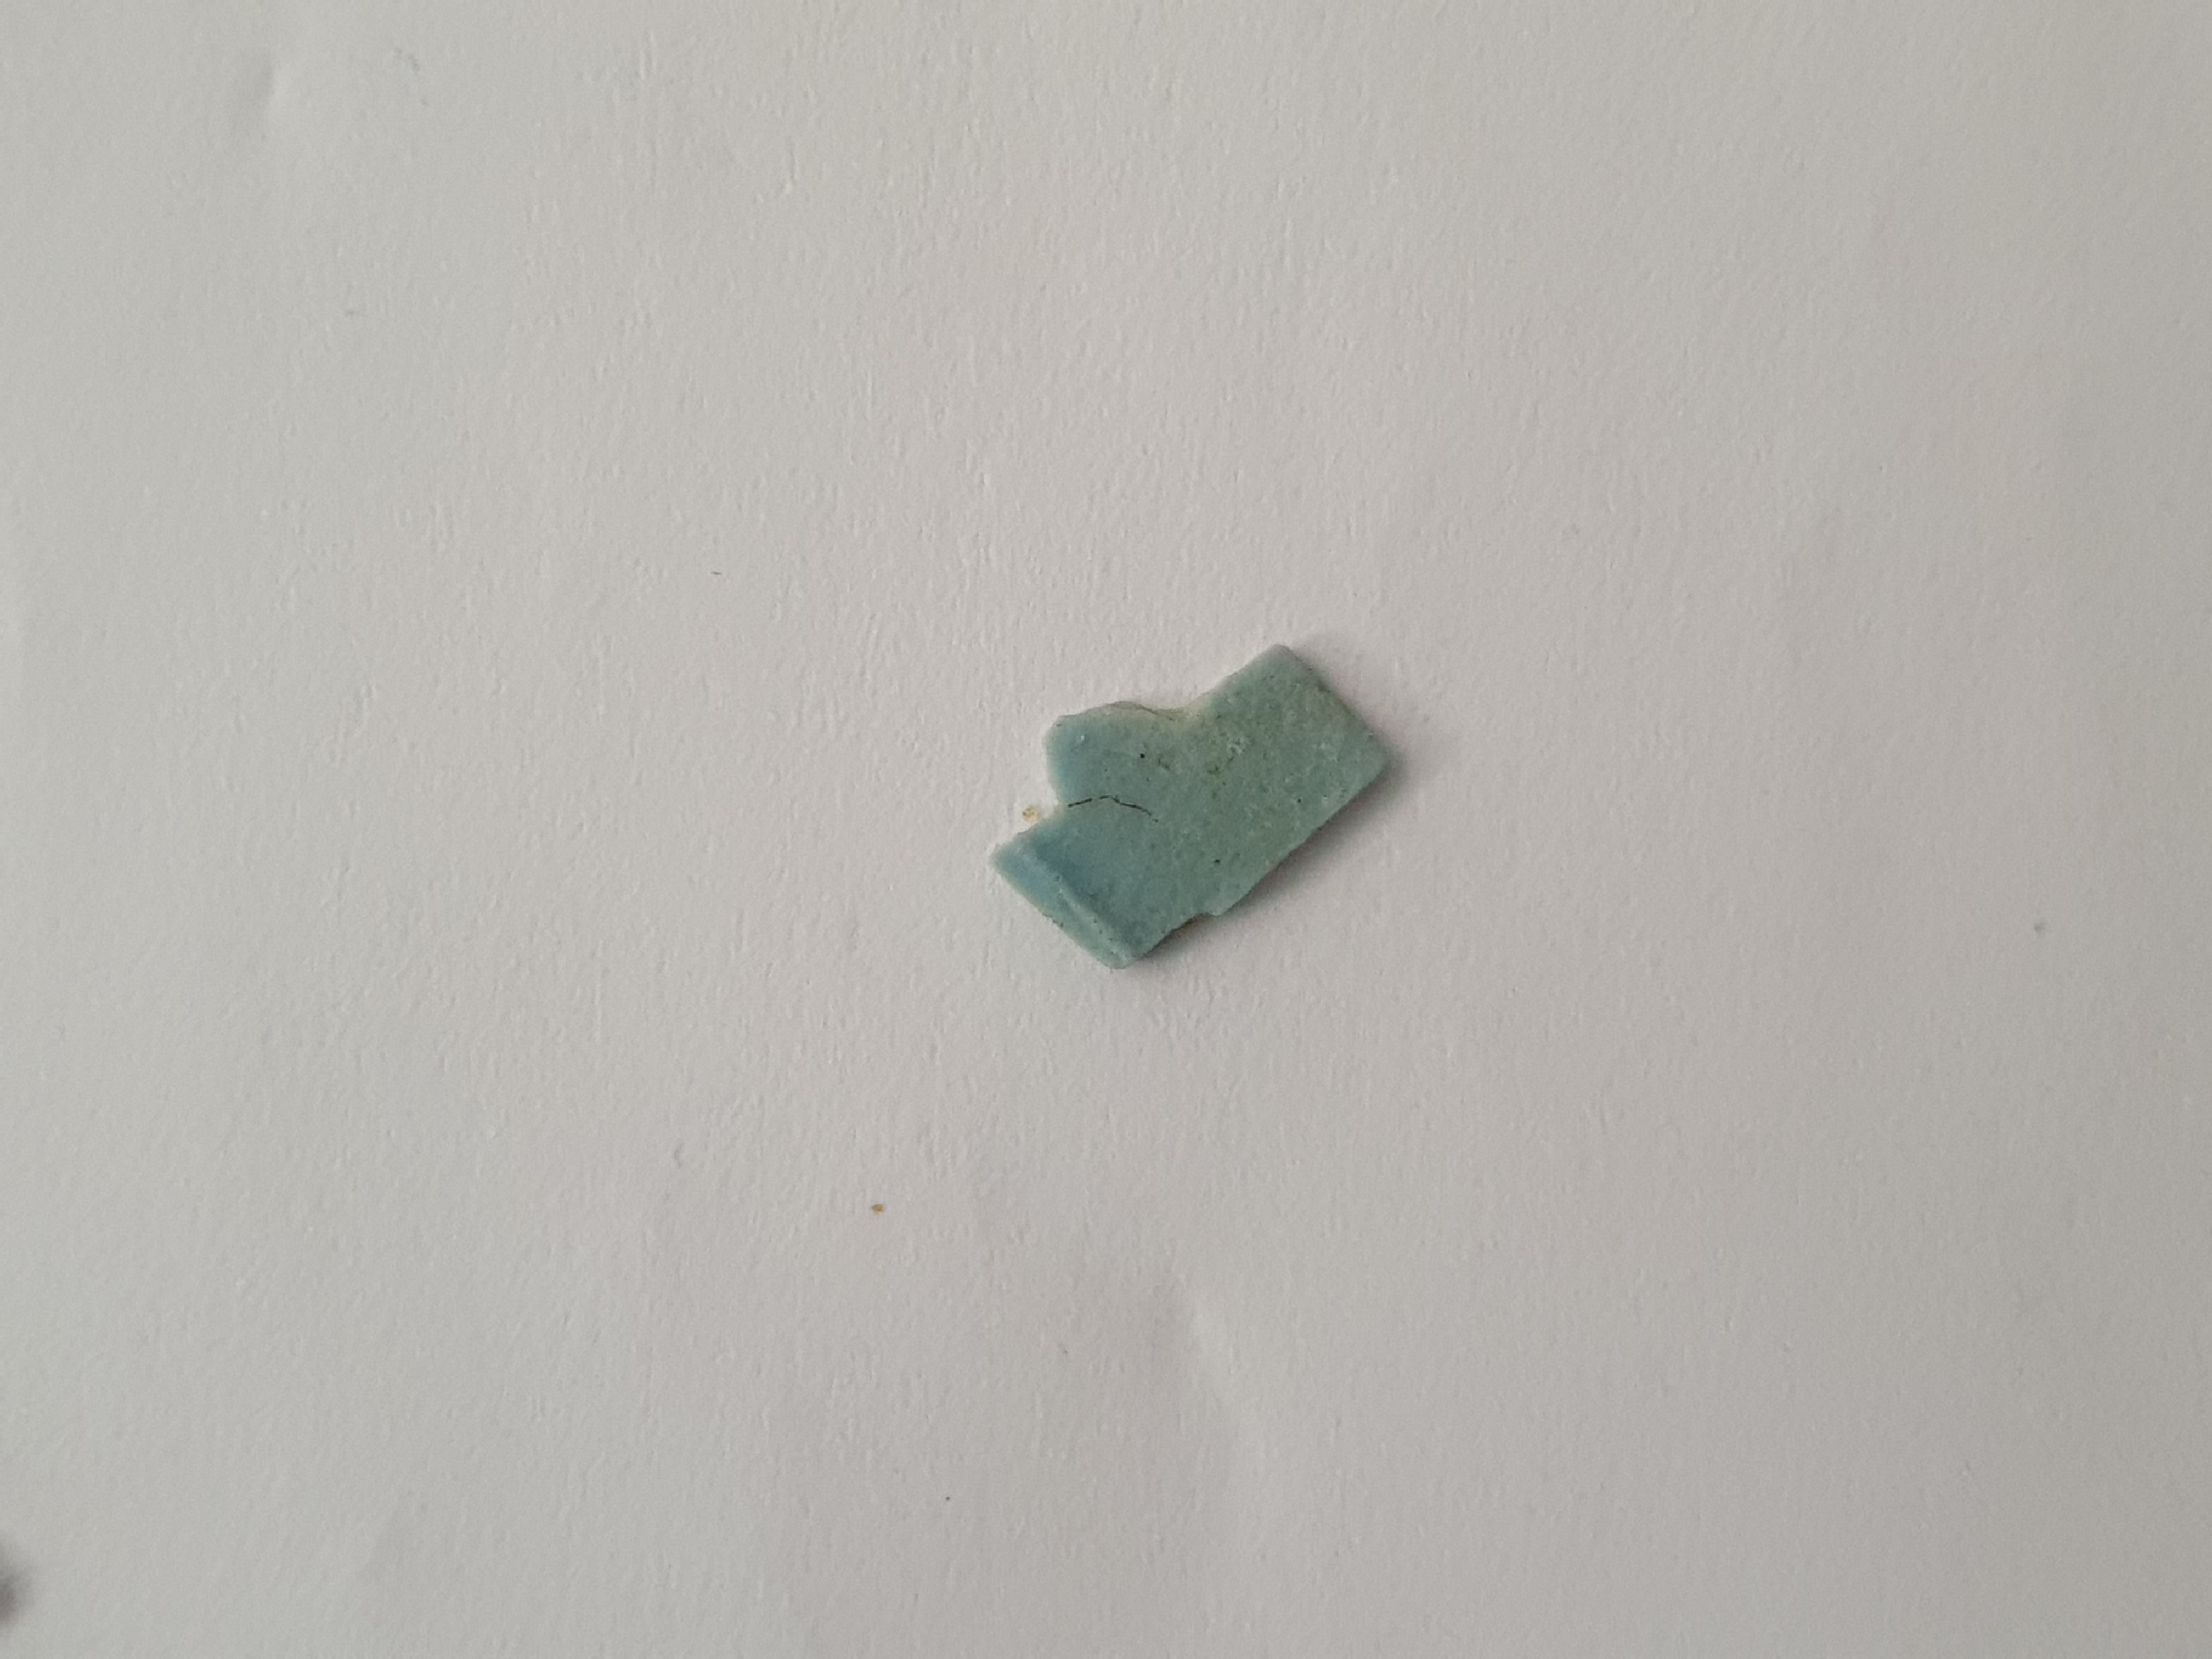plastic: (914, 599, 1430, 1002)
